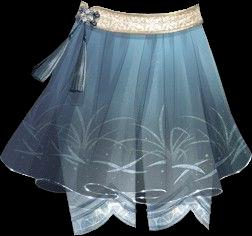Hemline: (0, 155, 251, 205)
Waistline: (74, 17, 202, 37), (81, 1, 198, 16)
